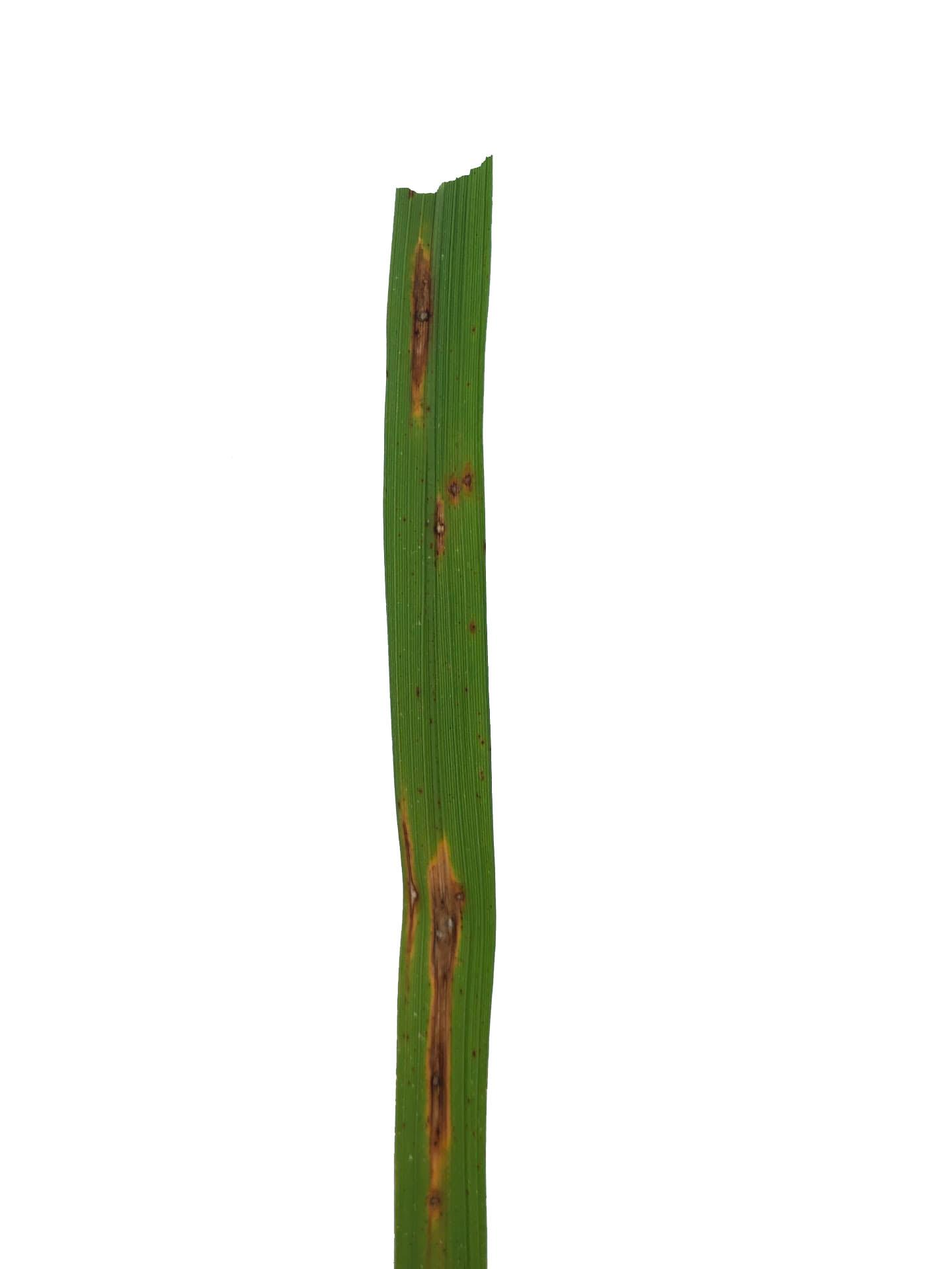Rice blast: (414, 818, 467, 1228), (404, 222, 451, 429), (418, 447, 483, 572)
